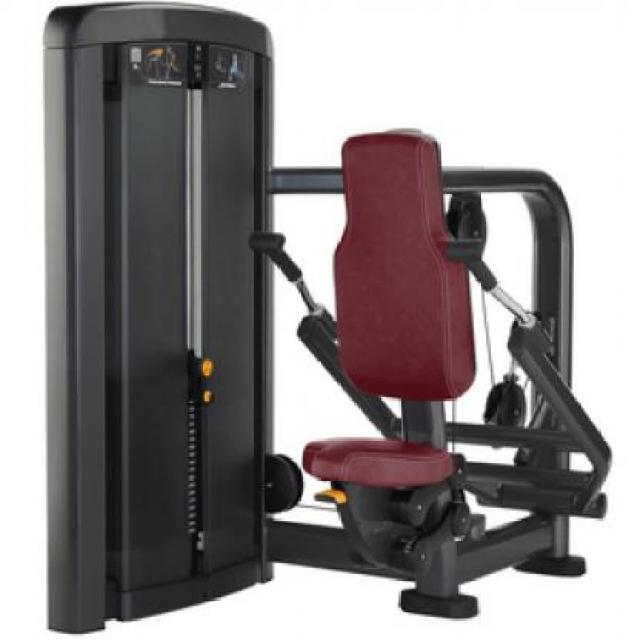seated dip machine: (42, 4, 616, 636)
